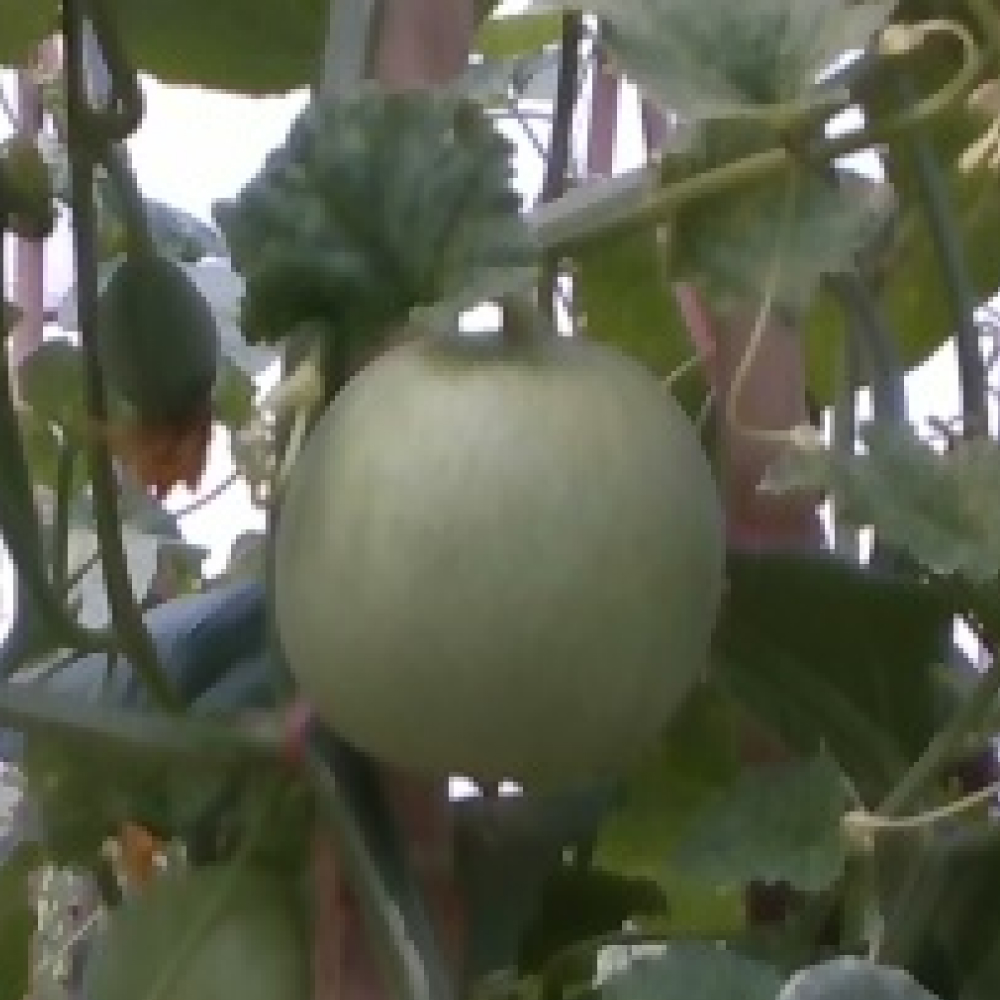melon: (264, 328, 735, 790)
